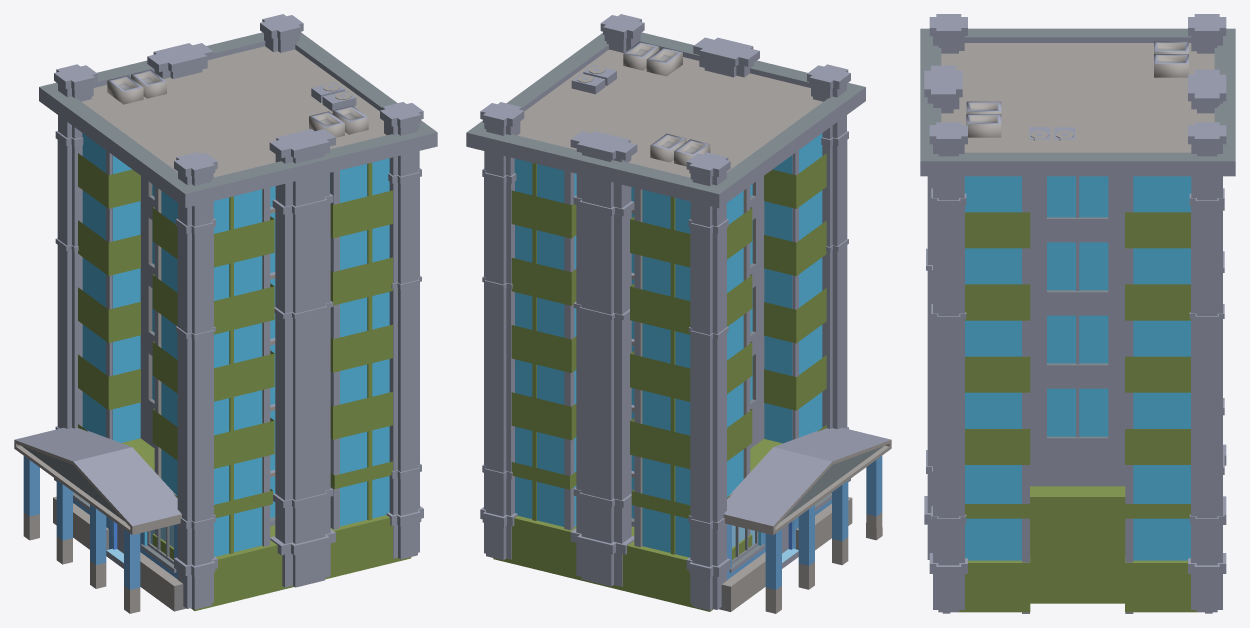
File: putong_zhongxing05.fbx
3 renders of one model, left to right at view 1: azimuth 30°, elevation 25°; view 2: azimuth 150°, elevation 25°; view 3: azimuth 270°, elevation 25°, orthographic. The views are drawn at different scales.
Parts seen in each view (by area): view 1: putong_zhongxing05; view 2: putong_zhongxing05; view 3: putong_zhongxing05.
Boxes of the visible parts, x1,y1,x2,y2 form: putong_zhongxing05: (14,14,437,613); putong_zhongxing05: (466,14,891,613); putong_zhongxing05: (920,14,1235,613).
Bounding box in the file's own units: 539 × 469 × 794.
